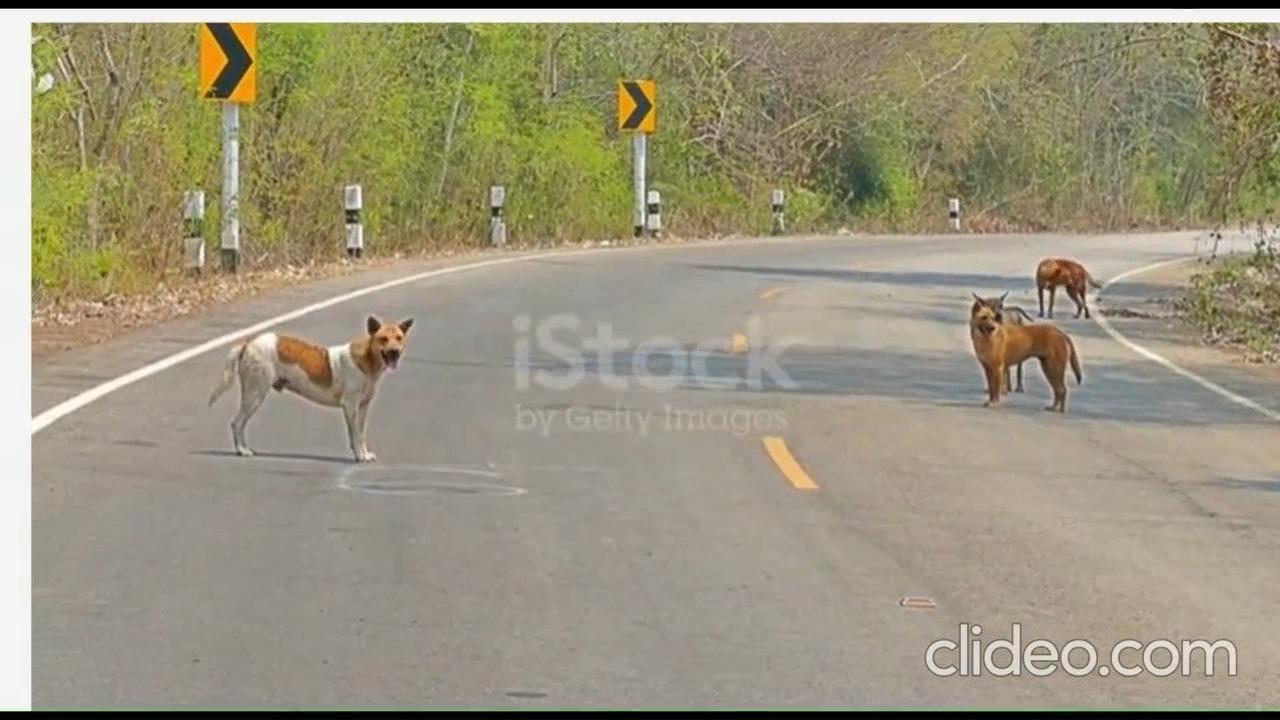dog: (216, 311, 416, 462), (964, 285, 1087, 411), (1028, 253, 1100, 324)
